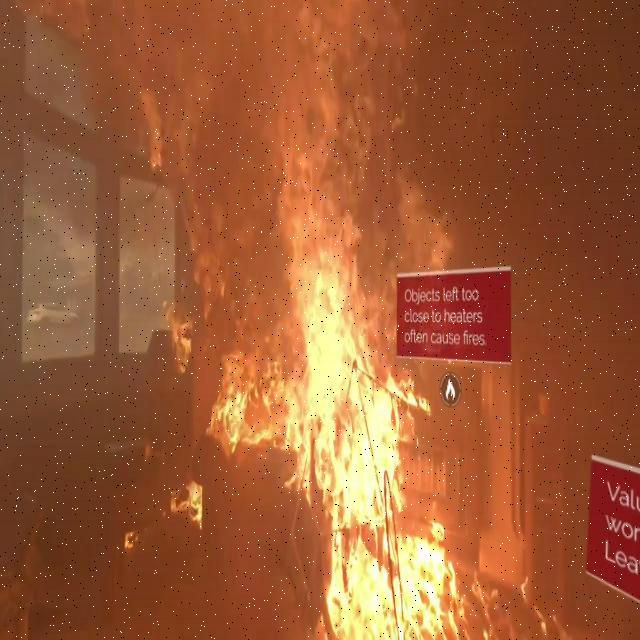fire: (175, 0, 584, 640)
